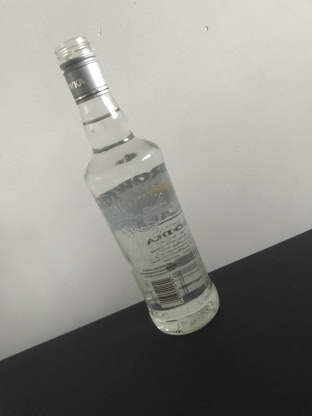nakretka: (52, 32, 112, 107)
